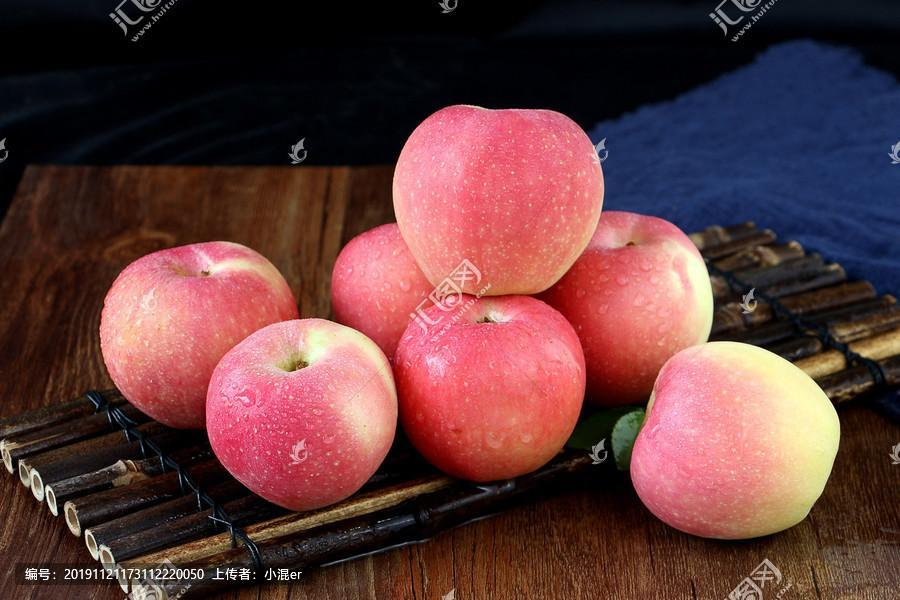apple: (627, 338, 839, 540), (392, 105, 604, 300), (203, 314, 395, 510), (396, 290, 589, 481), (100, 243, 296, 423), (535, 206, 714, 399), (327, 221, 437, 361)
